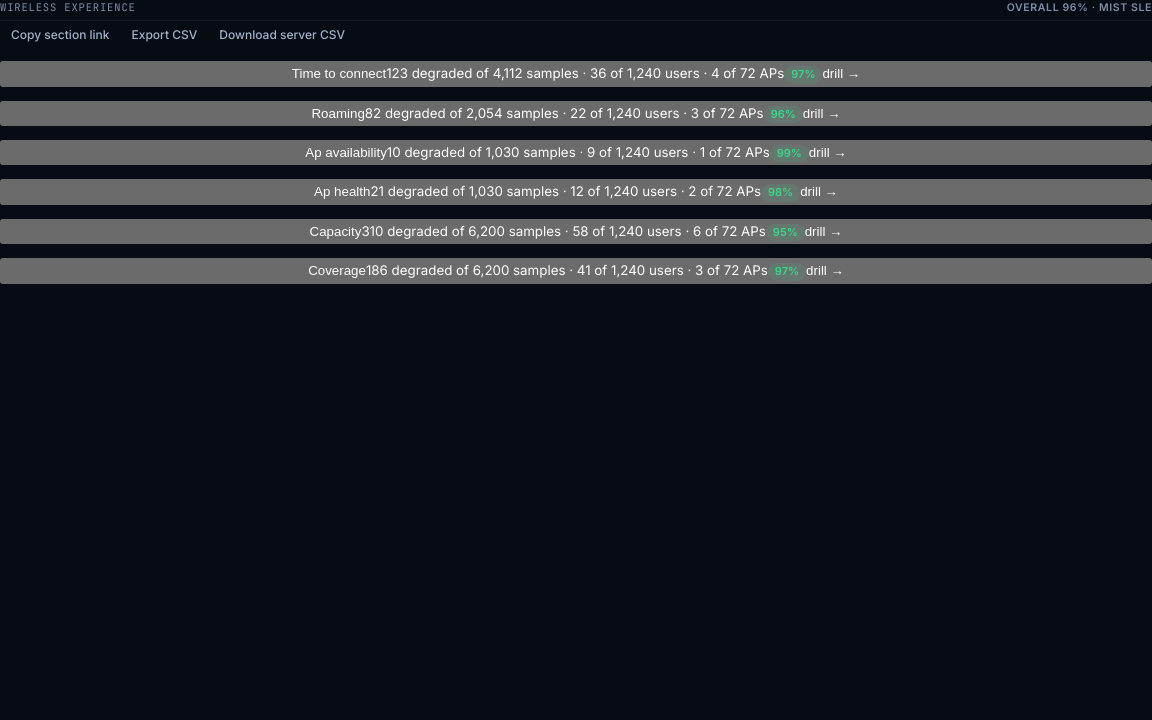
it: SiteSle drill drawer › 500 words the drawer as a failed read, with the server message
This screenshot has width=1152, height=720.
Click the button "Capacity": (576, 231) [0, 219, 1151, 244]
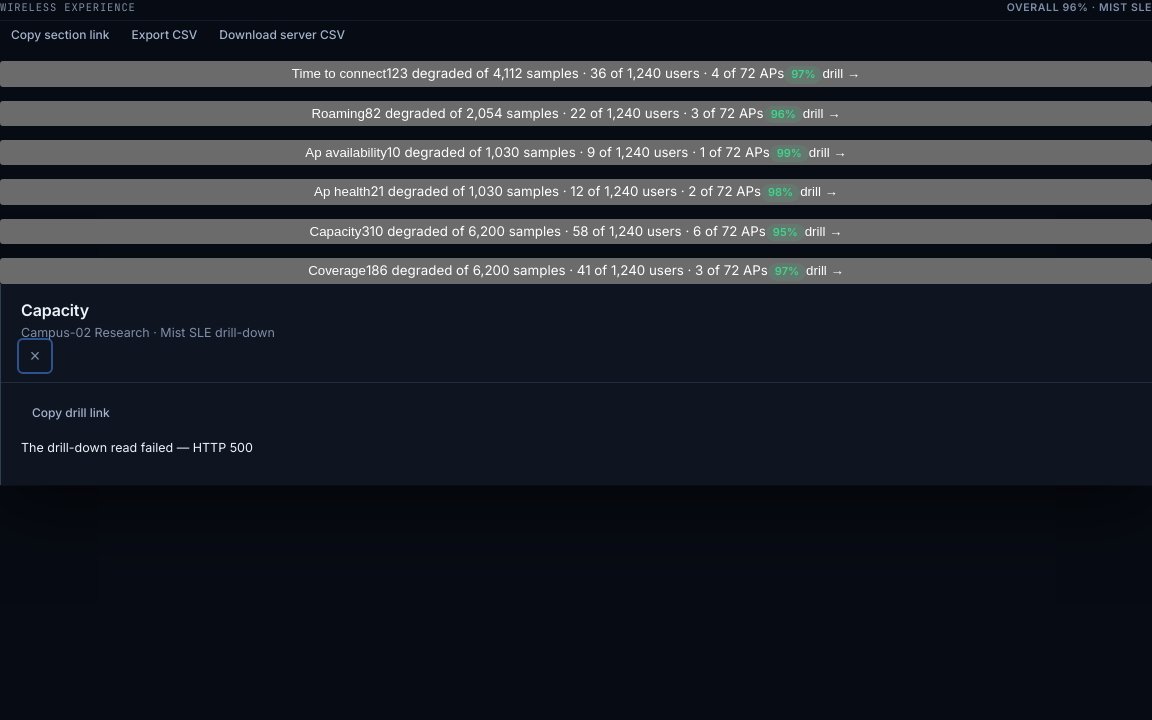
Result: the dialog is shown at [0, 284, 1151, 485]
Result: the text "The drill-down read failed — HTTP 500" is shown at [21, 440, 253, 455]
